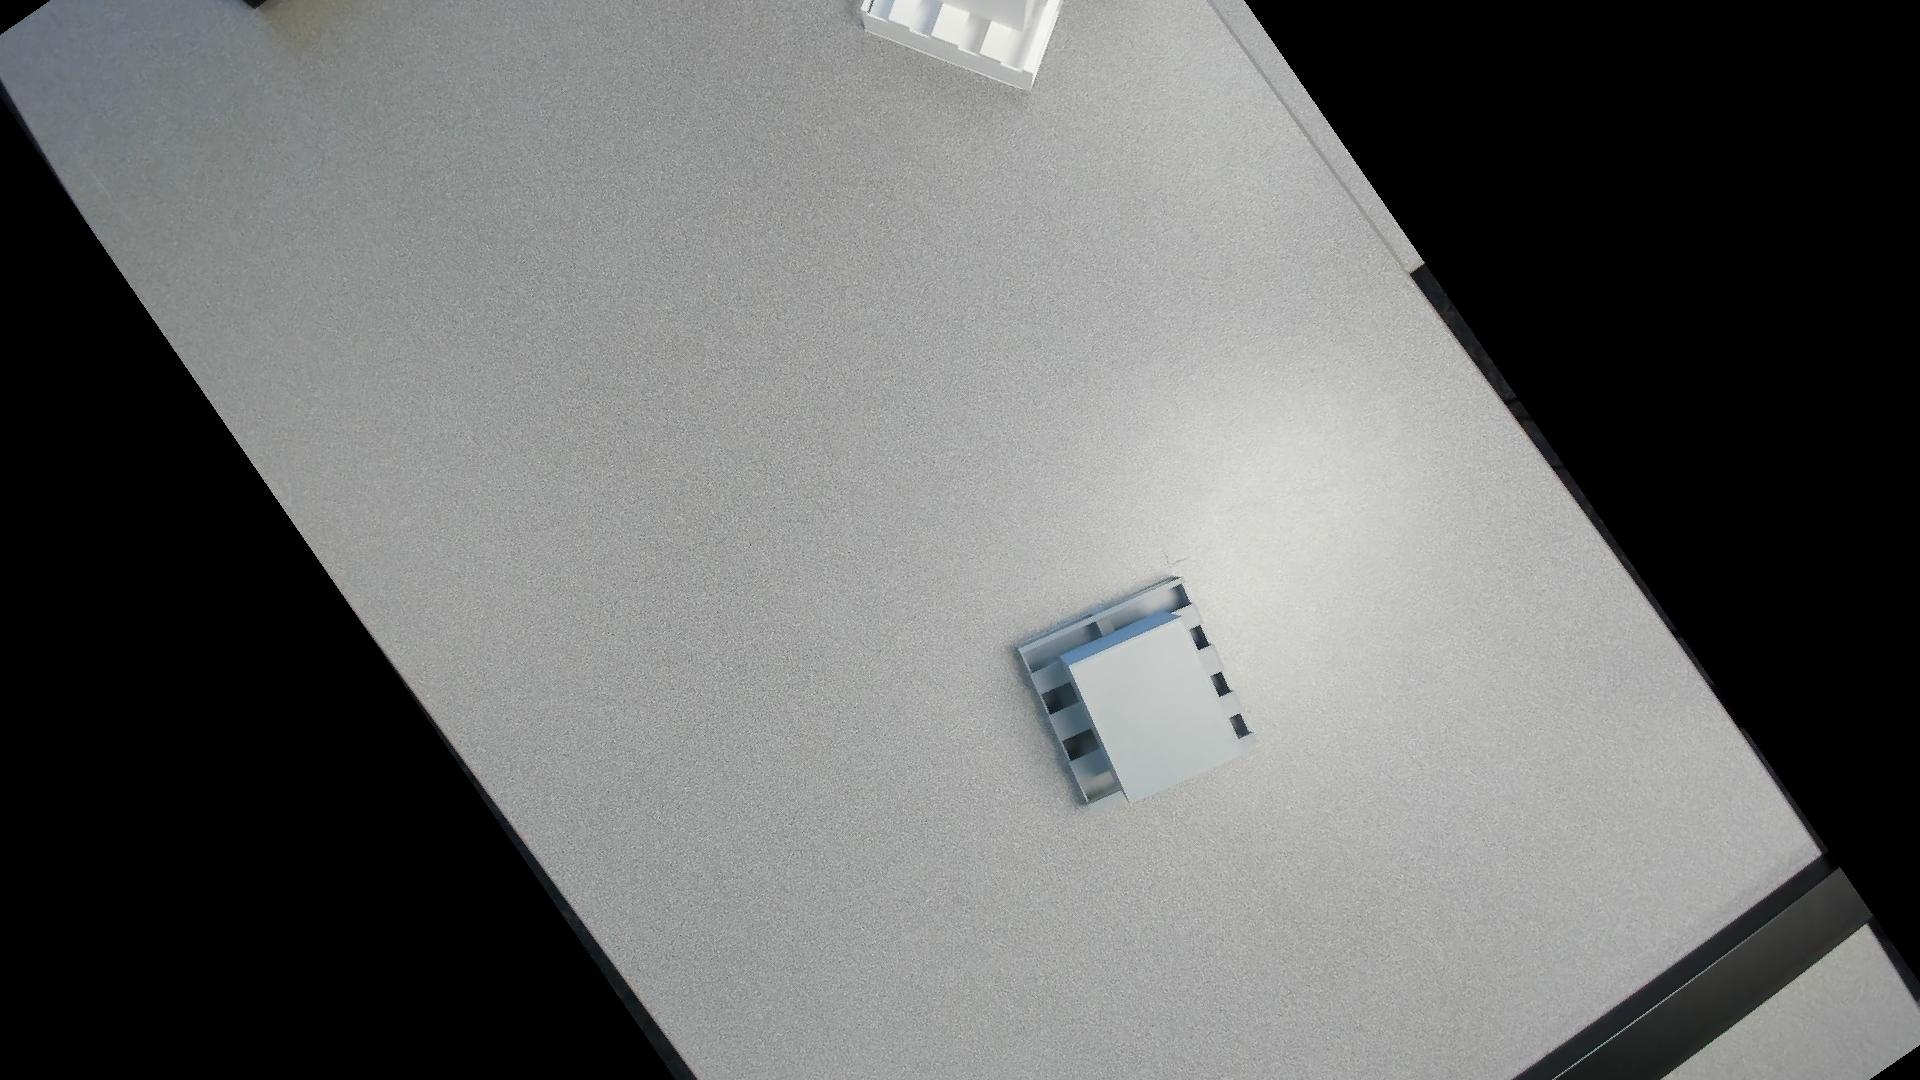grey pallet: (1013, 562, 1276, 829)
white pallet: (847, 1, 1068, 111)
